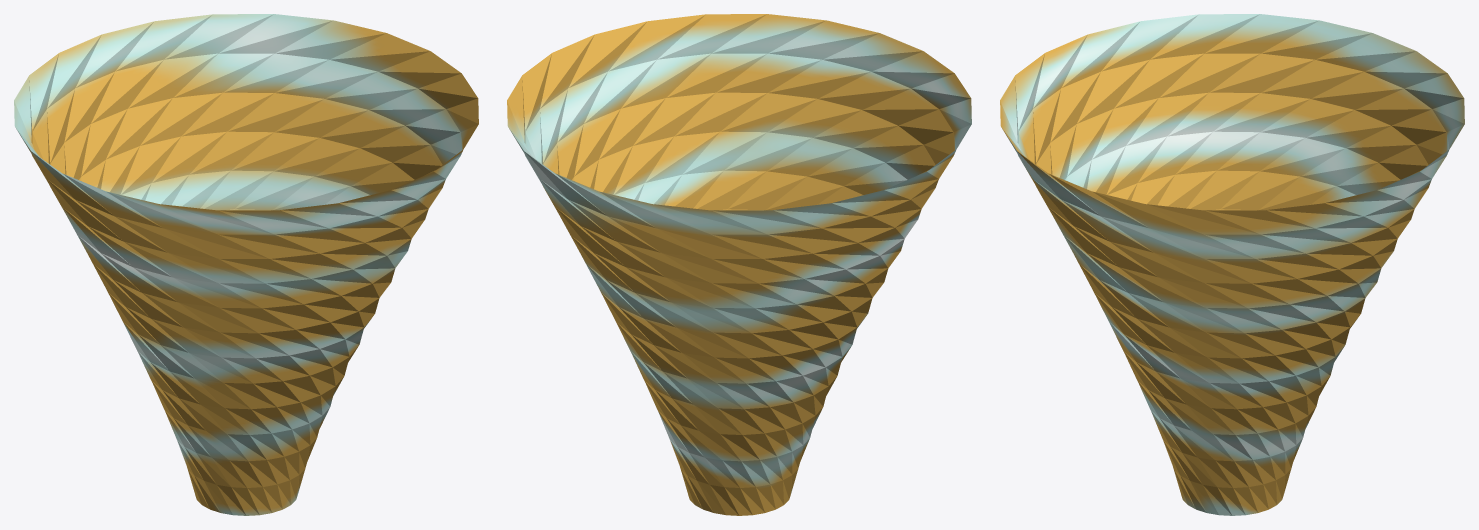
File: vfx_funnel.obj
3 views of the same model, side by side, from view 1: azimuth 30°, elevation 25°; view 2: azimuth 150°, elevation 25°; view 3: azimuth 270°, elevation 25° (orthographic).
Size of the model in its own units: 1.99 by 1.8 by 1.99.
